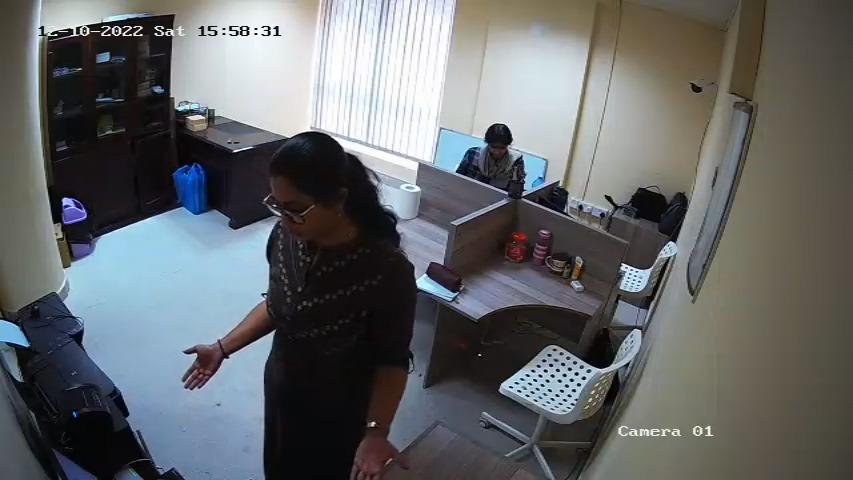no_gloves: (344, 428, 411, 479), (176, 339, 219, 392)
